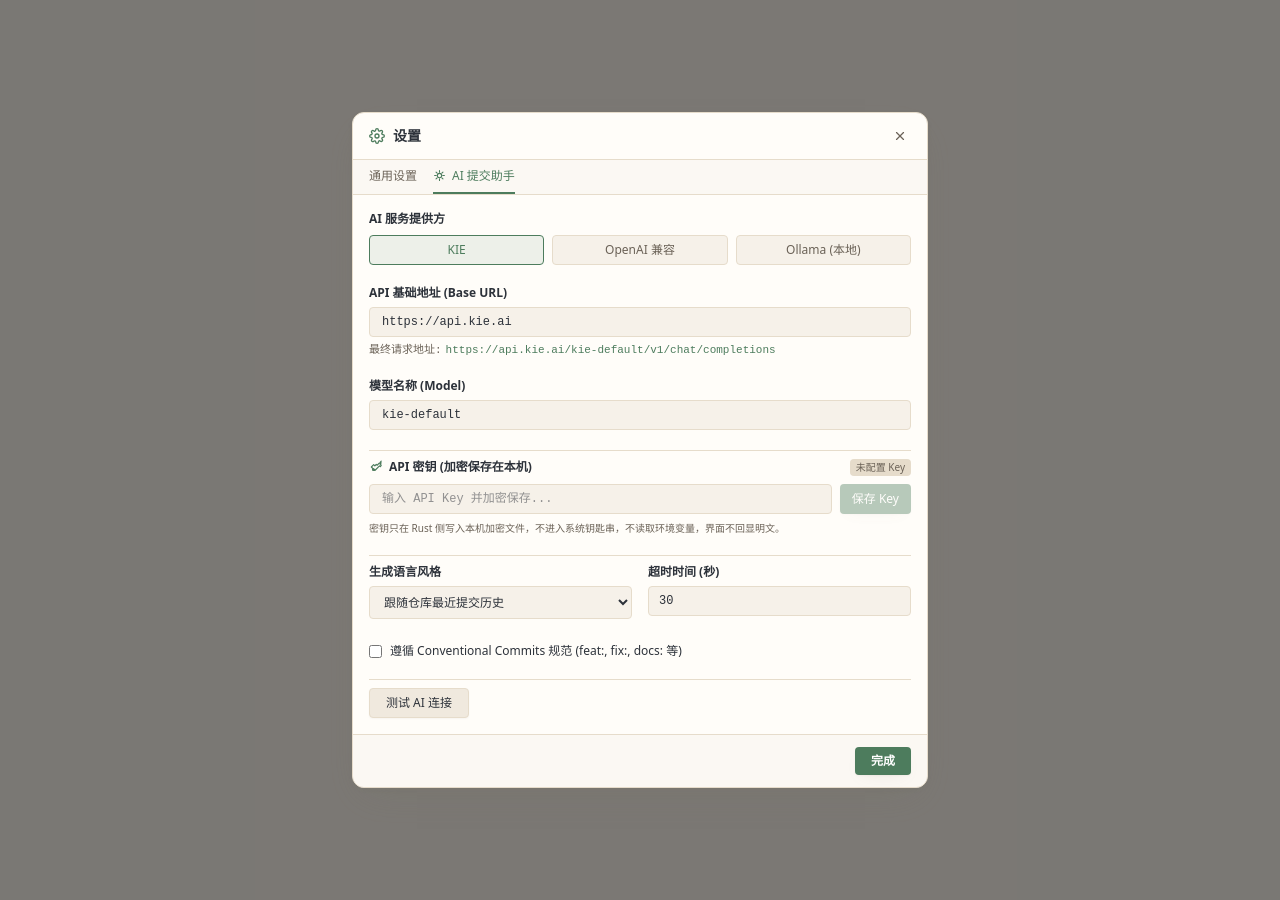
Test: SettingsModal component › AT-13i: shows warning for plaintext HTTP with non-local IP/domain and hides when localhost
The width and height of the screenshot is (1280, 900).
Click the button "Ollama (本地)" at (823, 250), box [736,235,911,265]
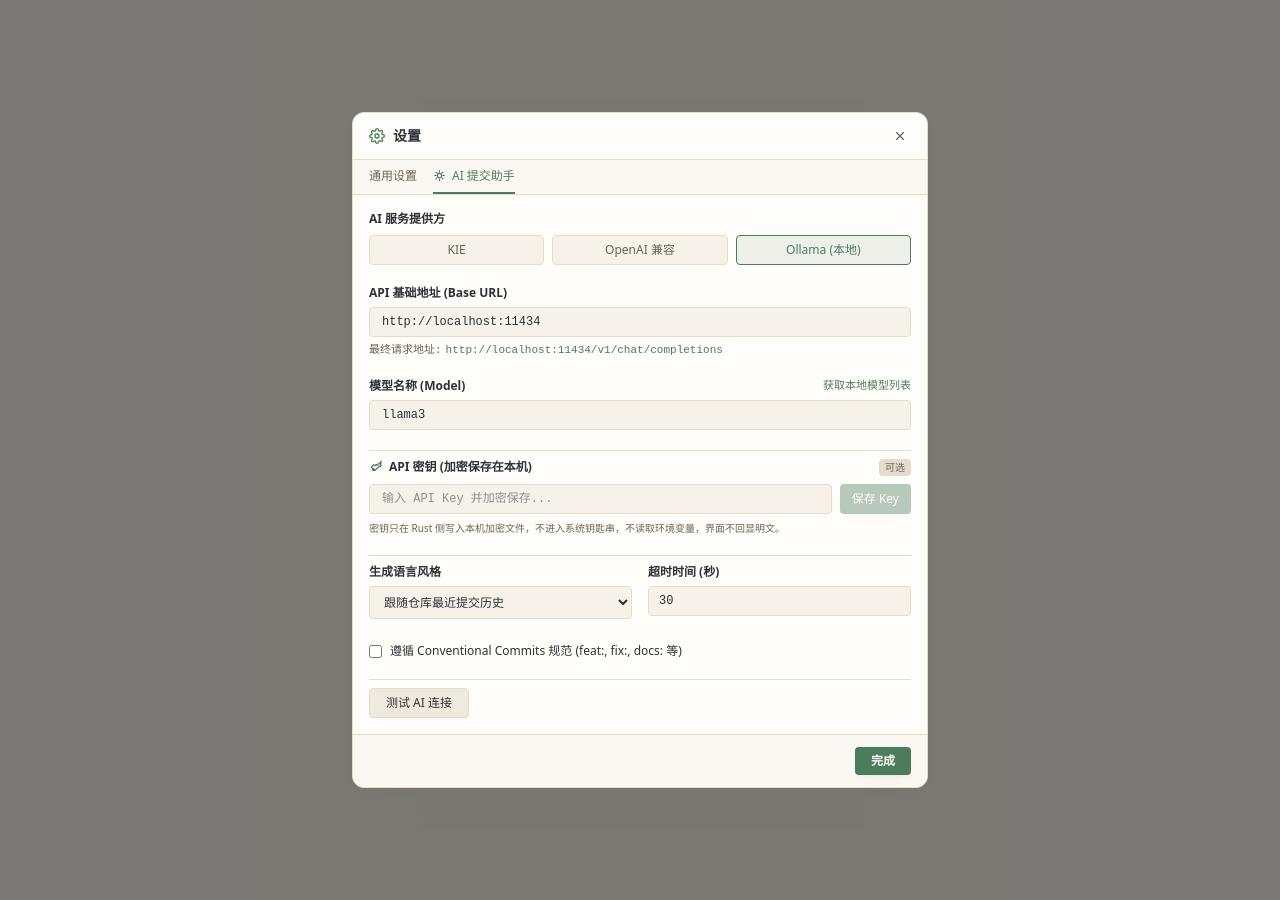
Type "http://192.168.1.100:11434" into the field with placeholder "http://localhost:11434" below "API 基础地址 (Base URL)" at (640, 322), box [369,307,911,337]
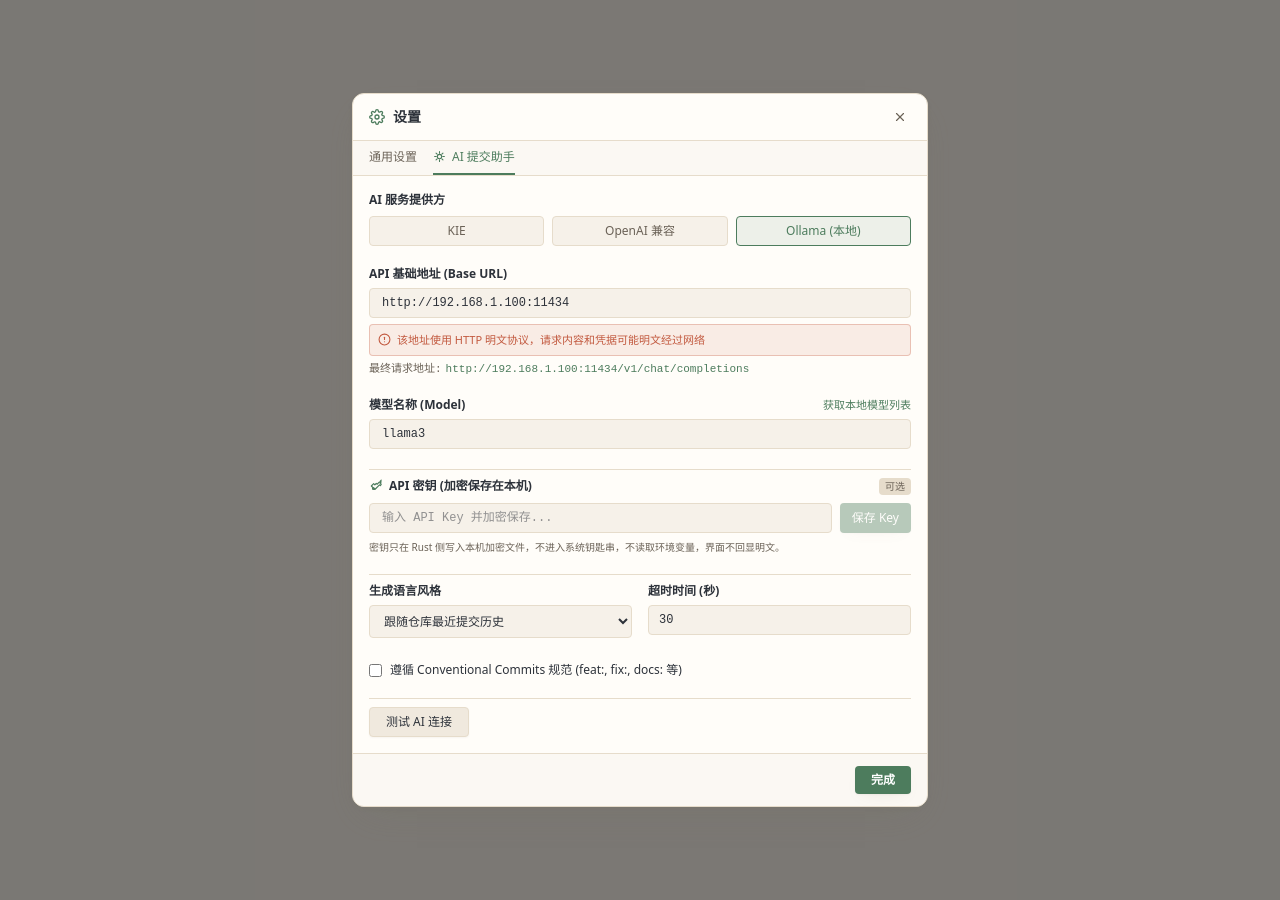
Expected: the text "该地址使用 HTTP 明文协议，请求内容和凭据可能明文经过网络" is shown, [397,332,705,347]
Note: Change back to localhost
Replace the text in the field with placeholder "http://localhost:11434" below "API 基础地址 (Base URL)" with "http://localhost:11434" at (640, 302), box [369,288,911,318]
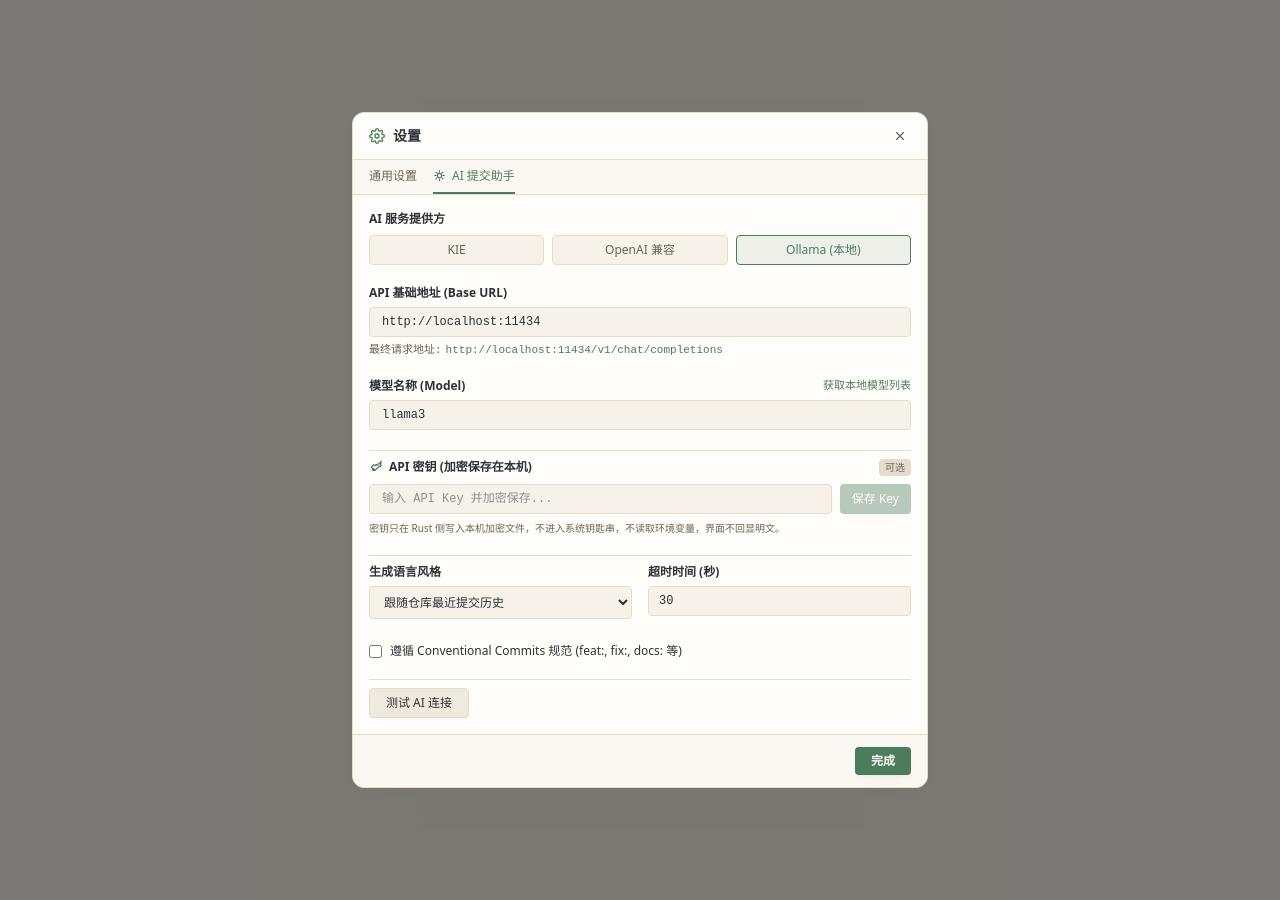
Expected: the text "该地址使用 HTTP 明文协议，请求内容和凭据可能明文经过网络" is gone
